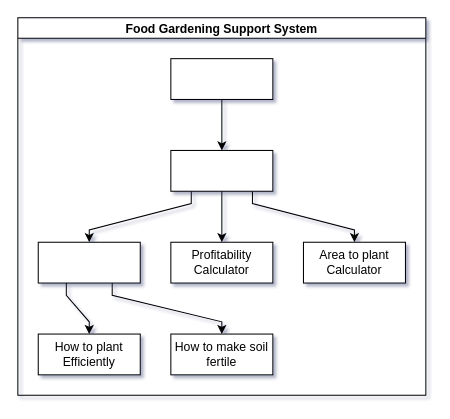
Image size: 450x419. Some labels were removed from this diagram. The centre of each missing label's shape, as x and y in pixels:
"Educational Resources" goes at point 88,262.
"Home Page" goes at point 221,170.
"Login" goes at point 221,78.
